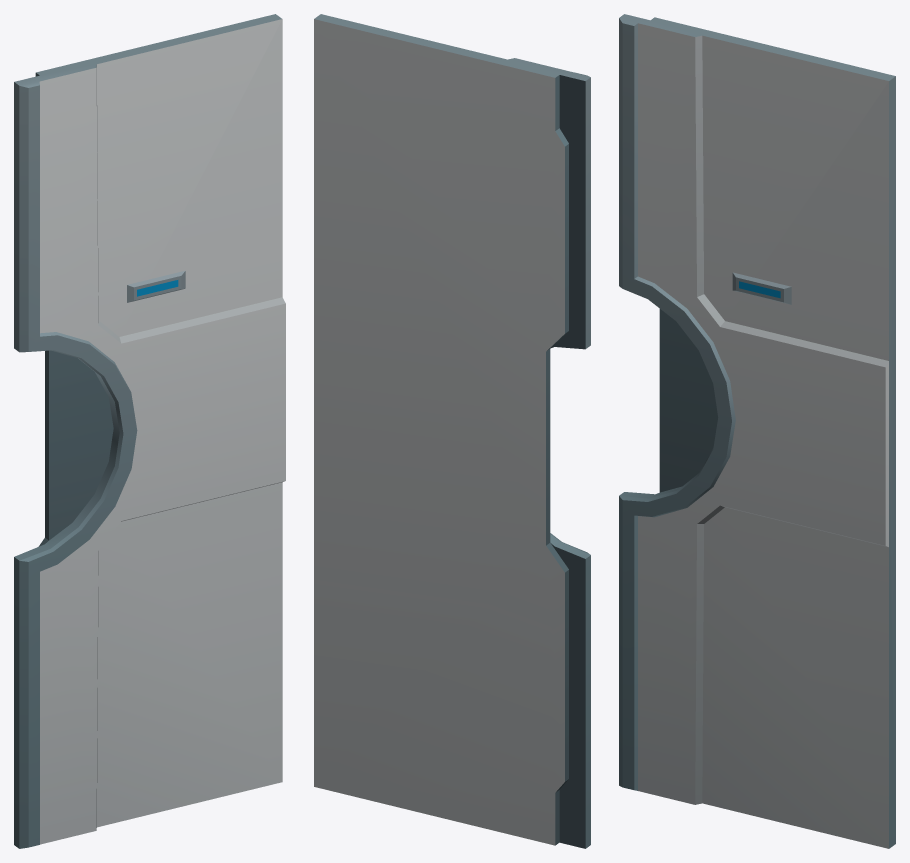
Rendered from Door_panel_005.fbx.
3 renders of one model, left to right at view 1: azimuth 30°, elevation 25°; view 2: azimuth 150°, elevation 25°; view 3: azimuth 330°, elevation 25°, orthographic.
Parts seen in each view (by area): view 1: Door_panel_005; view 2: Door_panel_005; view 3: Door_panel_005.
Part boxes in pixels (box(x1,y1,x2,y2)): Door_panel_005: box(14, 14, 285, 848); Door_panel_005: box(314, 14, 590, 848); Door_panel_005: box(619, 14, 895, 848).
Bounding box in the file's own units: 118 × 9.43 × 325.
